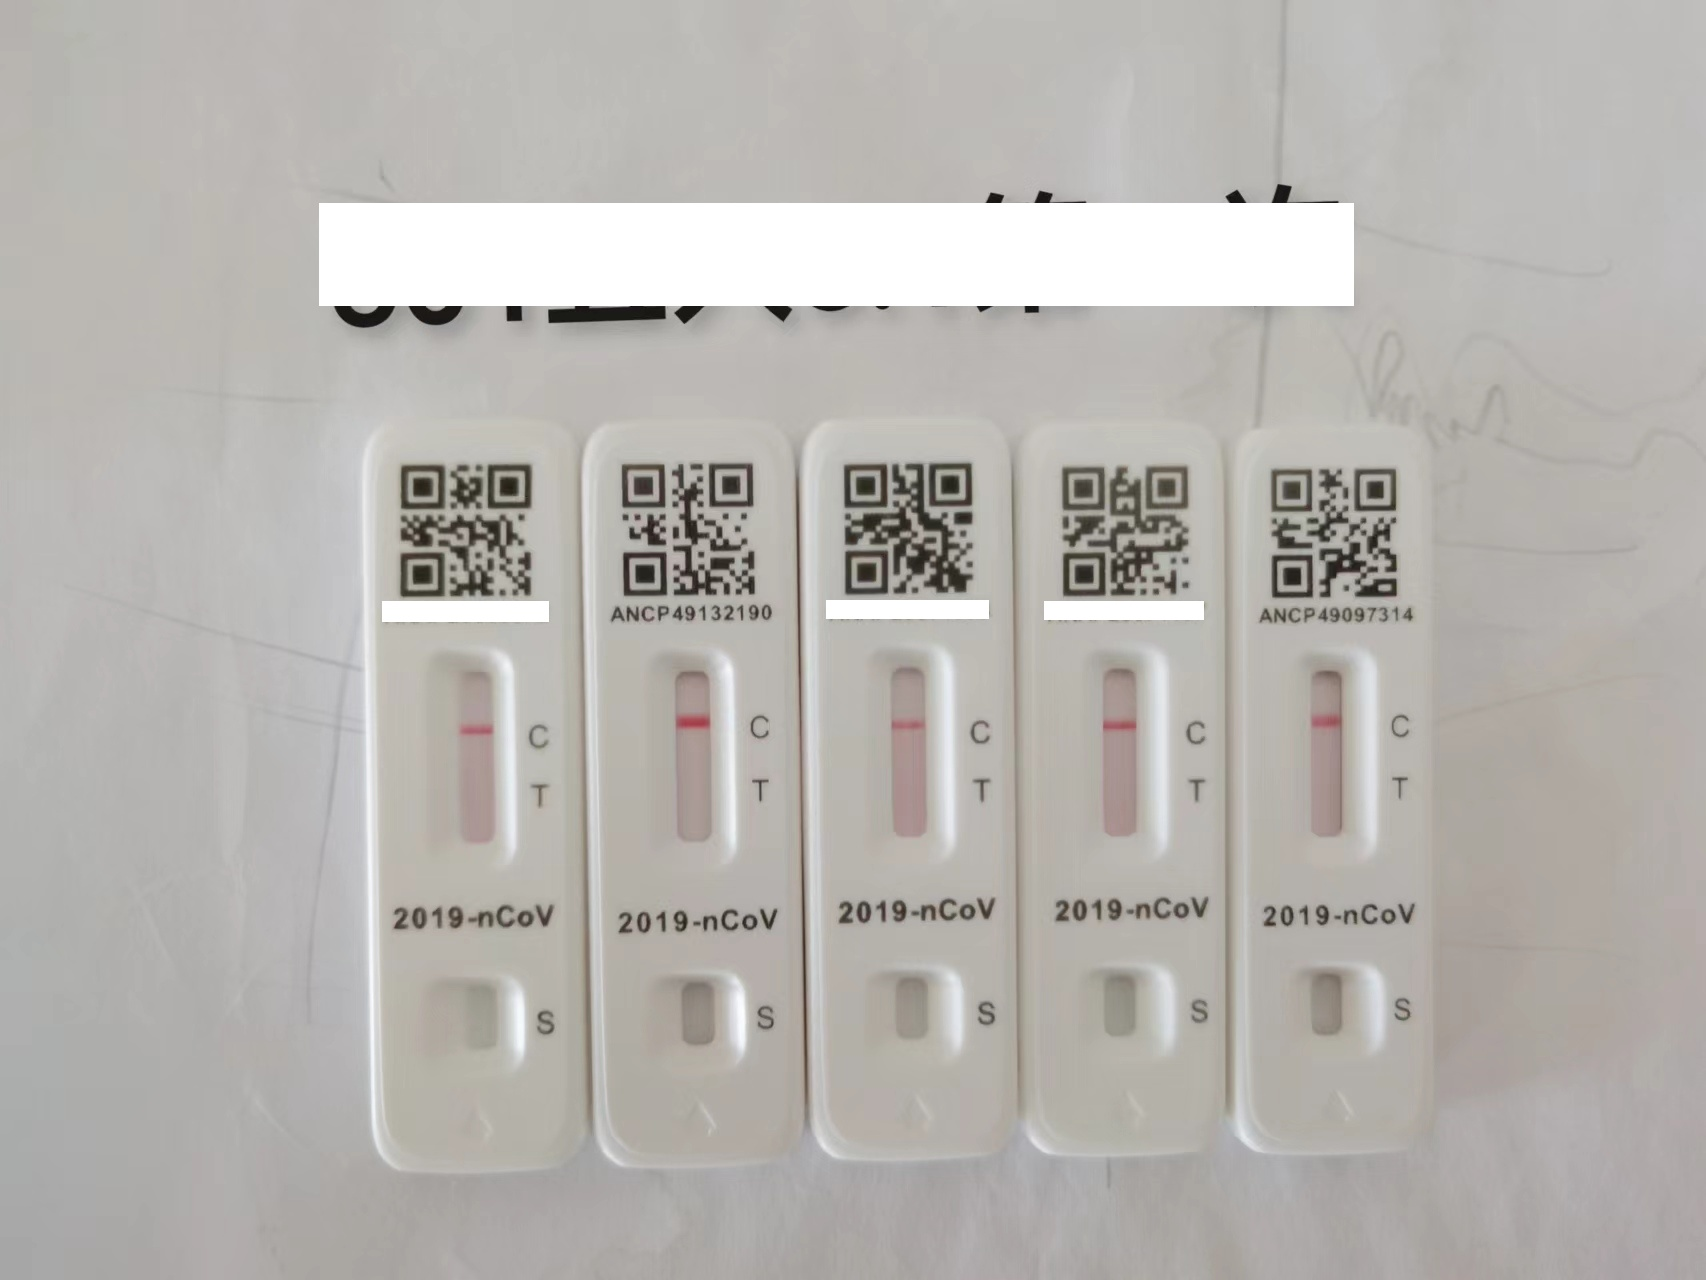negative: (1289, 645, 1382, 852), (647, 651, 738, 854), (426, 649, 514, 854), (866, 651, 949, 848), (1085, 651, 1166, 844)
